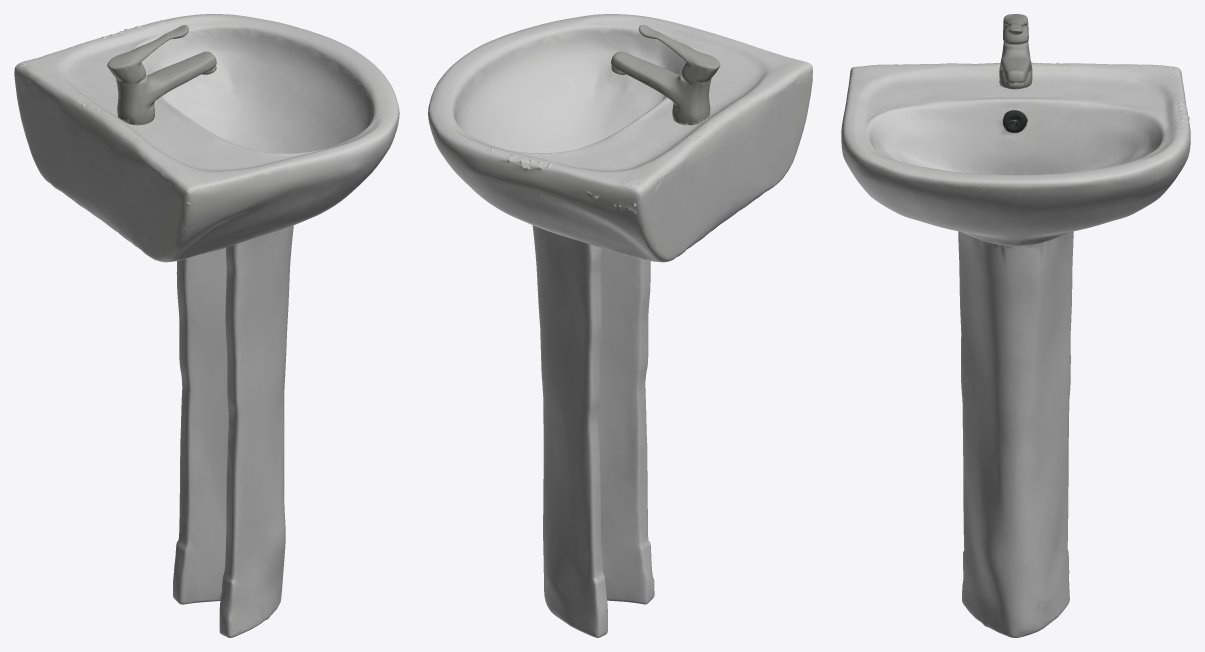
The model's file is lavabo.glb.
3 views of the same model, side by side, from view 1: azimuth 30°, elevation 25°; view 2: azimuth 150°, elevation 25°; view 3: azimuth 270°, elevation 25° (orthographic). The views are drawn at different scales.
Parts seen in each view (by area): view 1: aiprintgen_node_a3fda100-1663-4823-908b-6d36763b8329; view 2: aiprintgen_node_a3fda100-1663-4823-908b-6d36763b8329; view 3: aiprintgen_node_a3fda100-1663-4823-908b-6d36763b8329.
Part boxes in pixels (<box>): aiprintgen_node_a3fda100-1663-4823-908b-6d36763b8329: <box>14,14,399,637</box>; aiprintgen_node_a3fda100-1663-4823-908b-6d36763b8329: <box>428,14,812,637</box>; aiprintgen_node_a3fda100-1663-4823-908b-6d36763b8329: <box>841,14,1190,637</box>.
Bounding box in the file's own units: 0.4679 × 0.9999 × 0.5588.
1 material, 1 textured.
